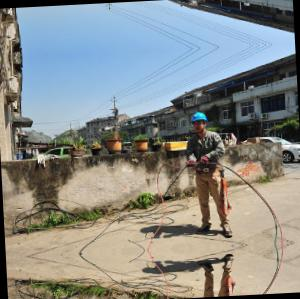helmet: (189, 109, 210, 135)
